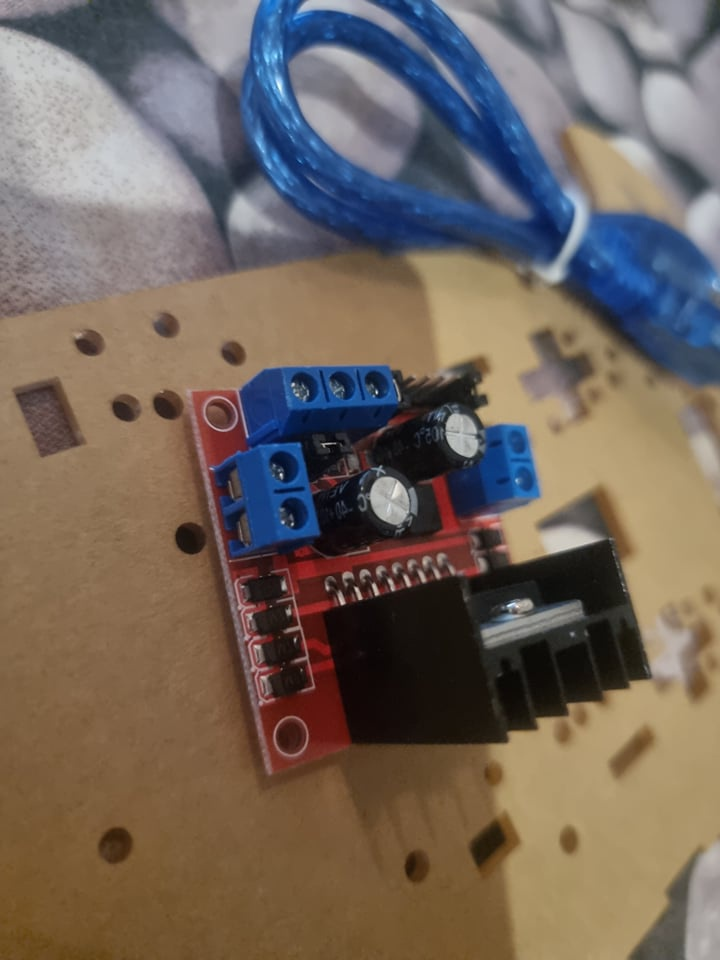MOTOR: (184, 362, 656, 783)
